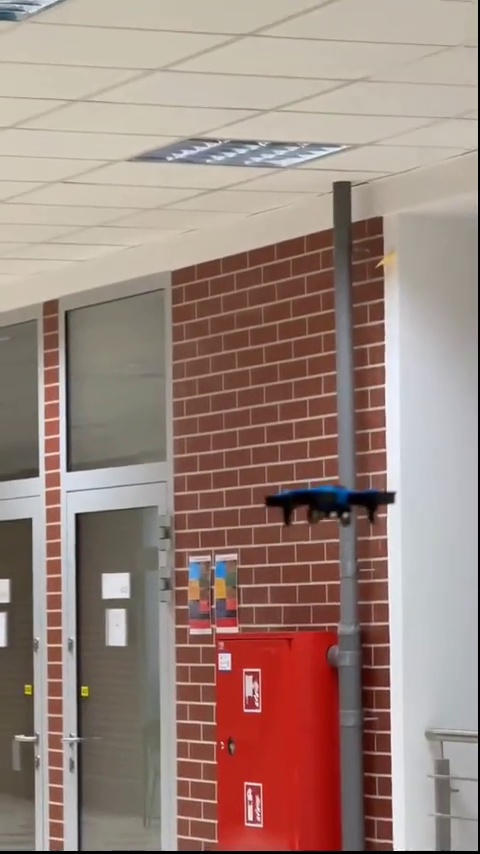drone: (263, 485, 398, 534)
